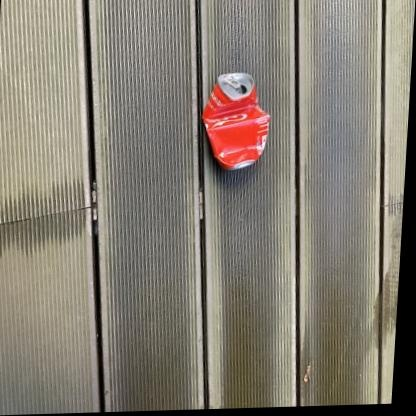trash: (203, 73, 269, 169)
